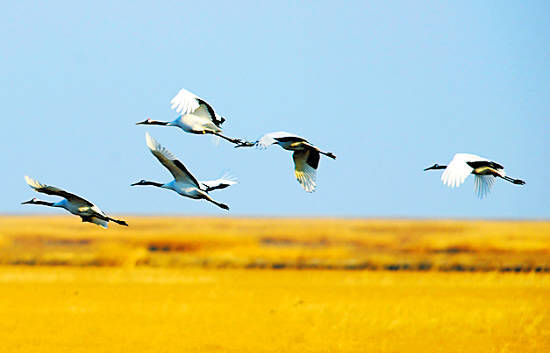bird: (127, 131, 241, 212), (135, 86, 242, 153), (233, 129, 337, 194), (17, 174, 128, 231), (422, 150, 528, 204)
